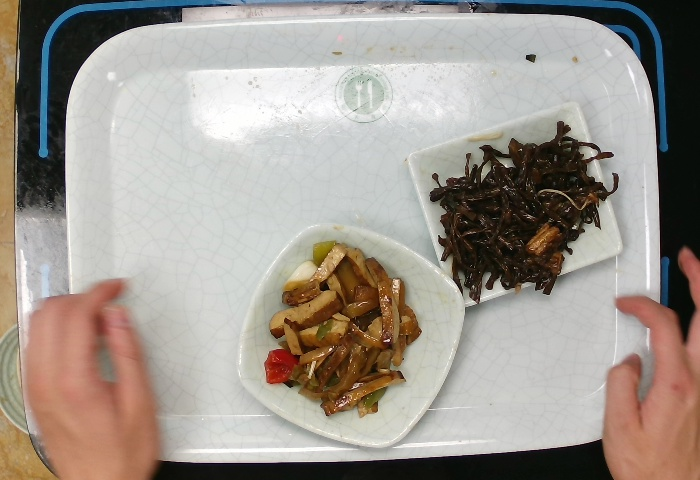WCQzf-Da_Si_Fang_Die: (233, 220, 469, 448)
WCQzf-Ru_Ci_Si_Fang_Die: (404, 97, 633, 315)
